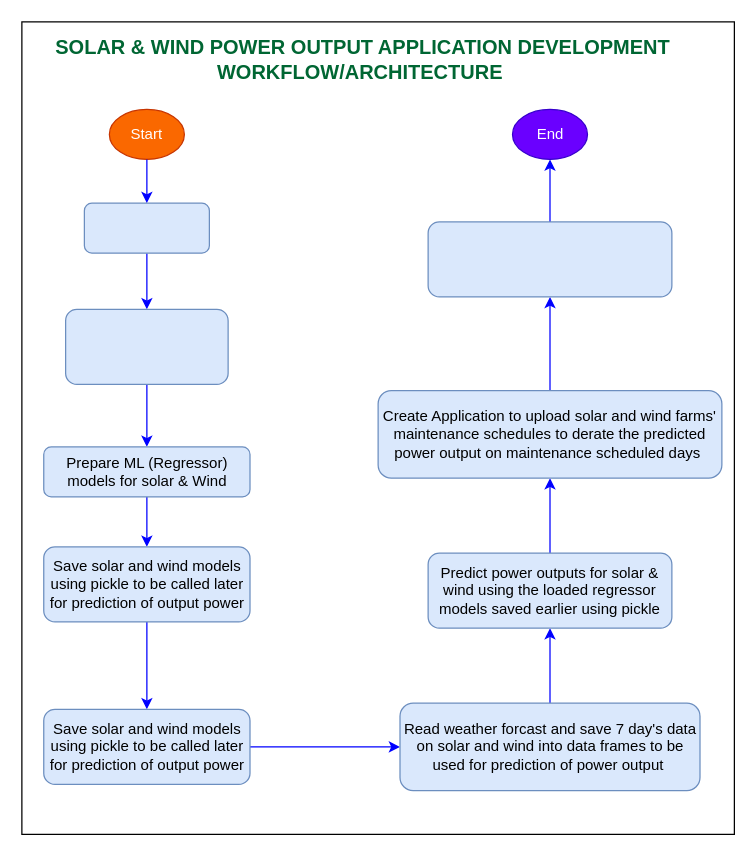
Image size: 756x856. Some labels were removed from this diagram. Here are the shapes that lost their labels. From the top down, the box of each, then its label:
(83, 202, 209, 253): Create a local folder
(427, 221, 672, 297): Display on local host server the 7 day Graphical Power outputs of solar and wind
(64, 308, 228, 384): Copy generation & maintenance schedule files for solar and wind
